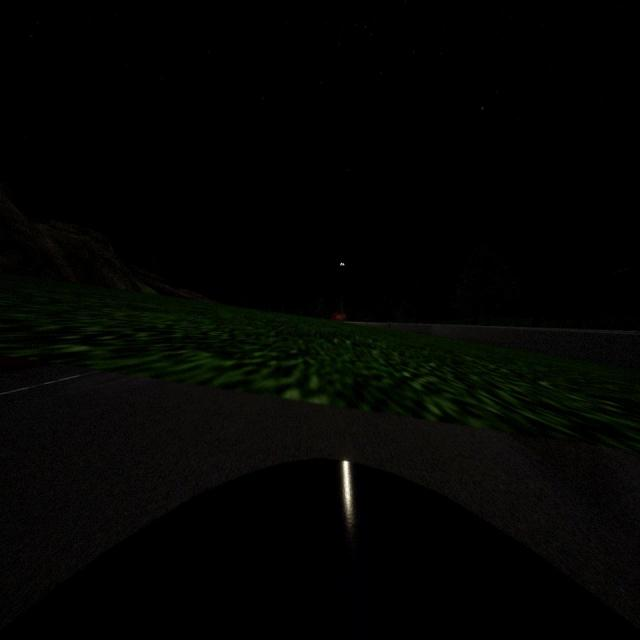Vehicle: (1, 461, 640, 636), (331, 312, 347, 322)
